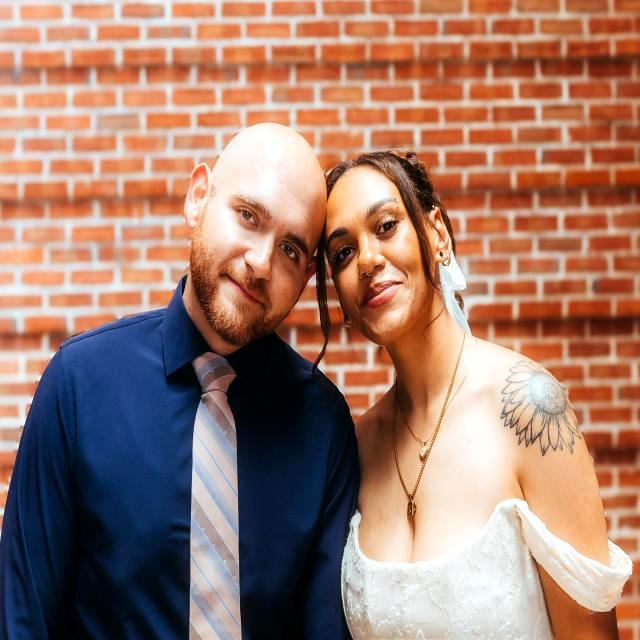no_head_wear: (326, 151, 455, 291), (184, 123, 326, 244)
person: (0, 124, 359, 640), (323, 149, 632, 640)
